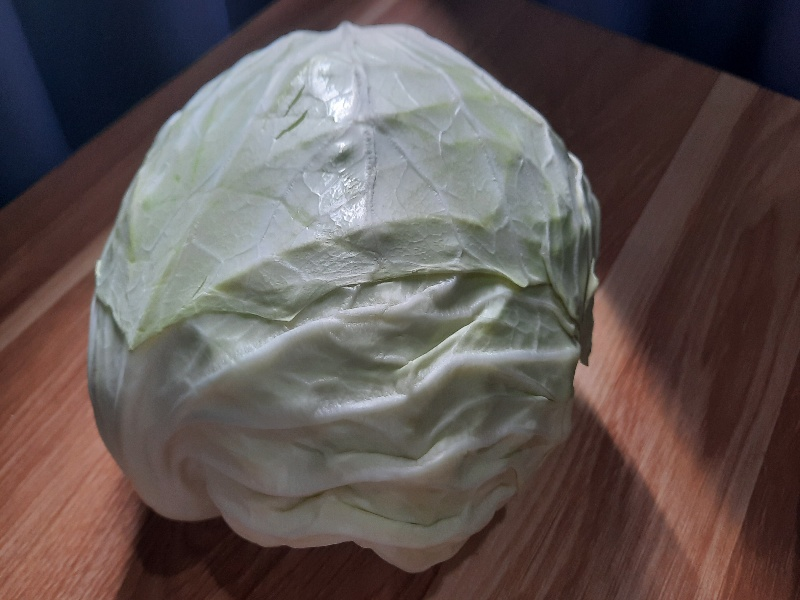vege: (81, 21, 606, 587)
